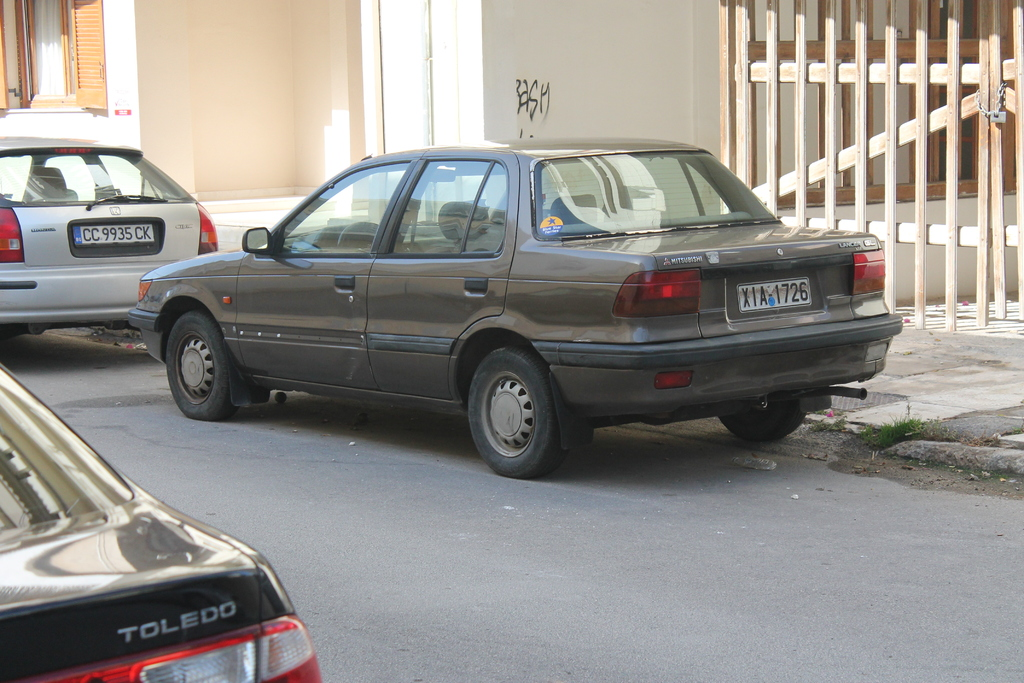license plate: (735, 285, 820, 313), (71, 220, 153, 244)
